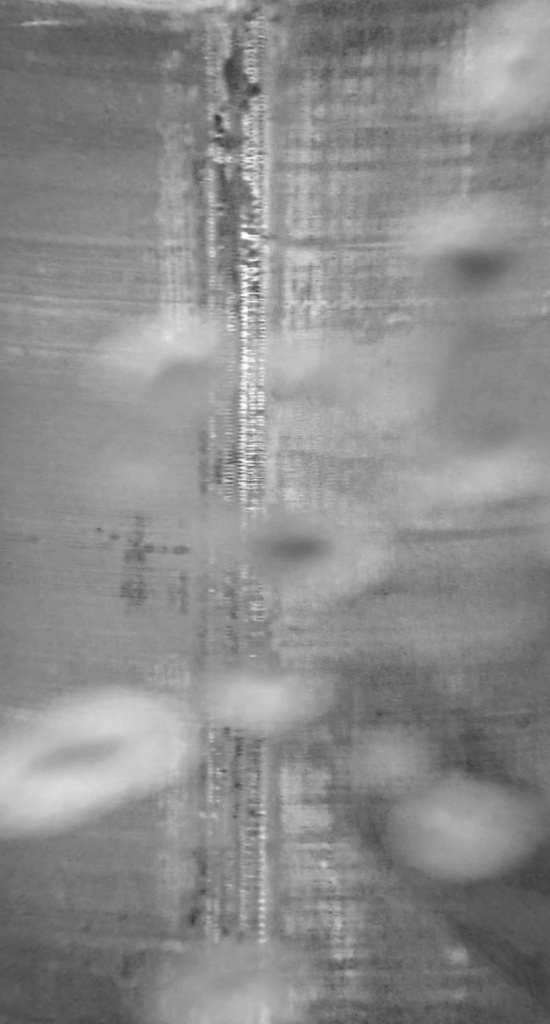splice: (171, 1, 274, 1024)
